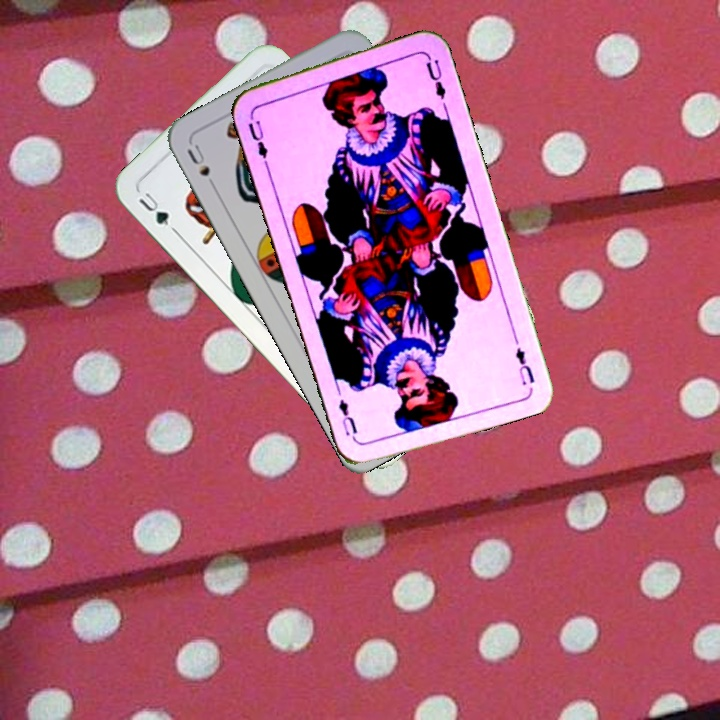EU: (244, 108, 271, 167), (511, 343, 537, 388)
GU: (134, 186, 172, 229)
SU: (183, 140, 221, 194)
